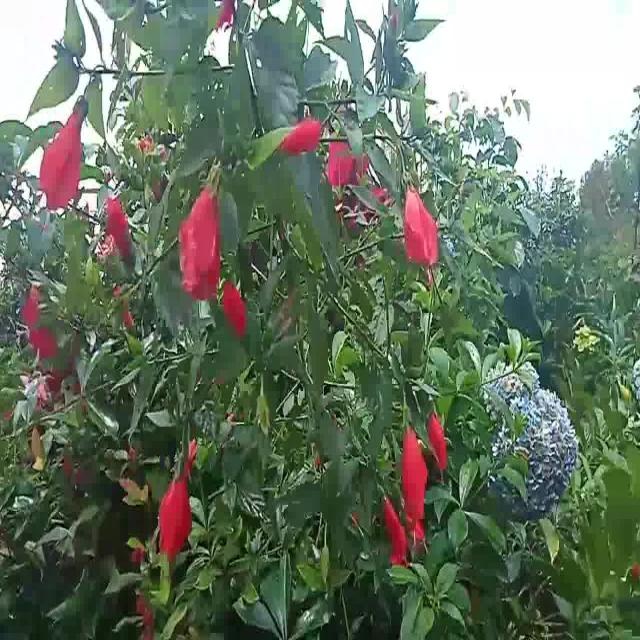Flower: (178, 164, 225, 307), (40, 93, 88, 213), (399, 173, 441, 279), (156, 453, 191, 566), (400, 402, 428, 526), (102, 195, 139, 265), (378, 494, 410, 571), (279, 111, 323, 166), (220, 281, 252, 338)
